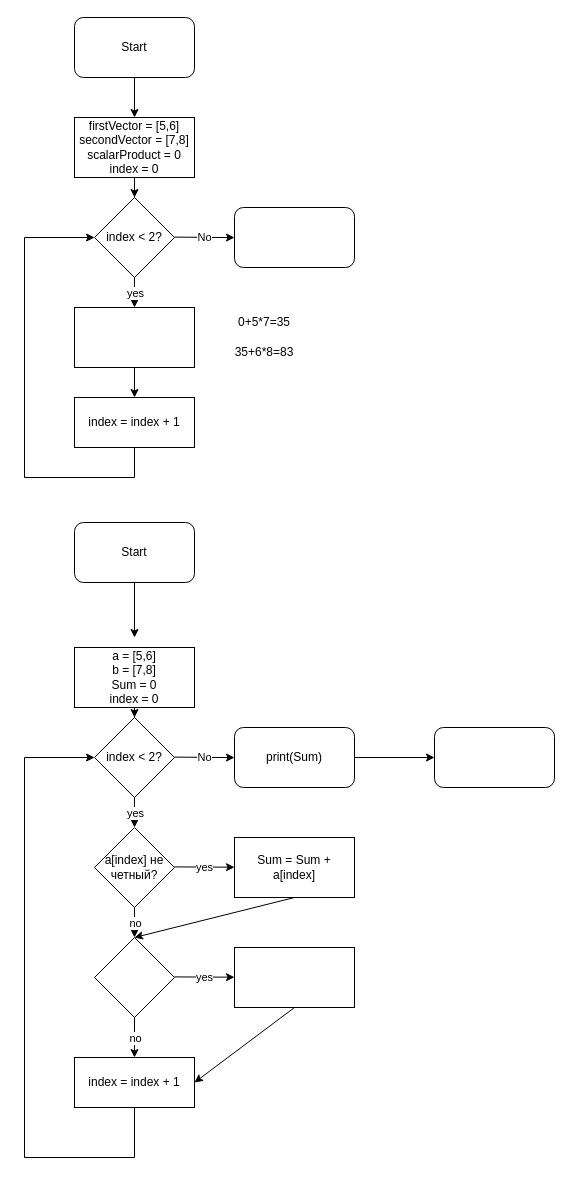
Image size: 572x1183. Some labels were removed from this diagram. Each missing label, with the centre of its shape:
b[index] не четный?: point (134, 977)
End: point (494, 757)
print(scalarProduct): point (294, 237)
scalarProduct = scalarProduct + firstVector[index] * secondVector[index]: point (134, 337)
Sum = Sum + b[index]: point (294, 977)
